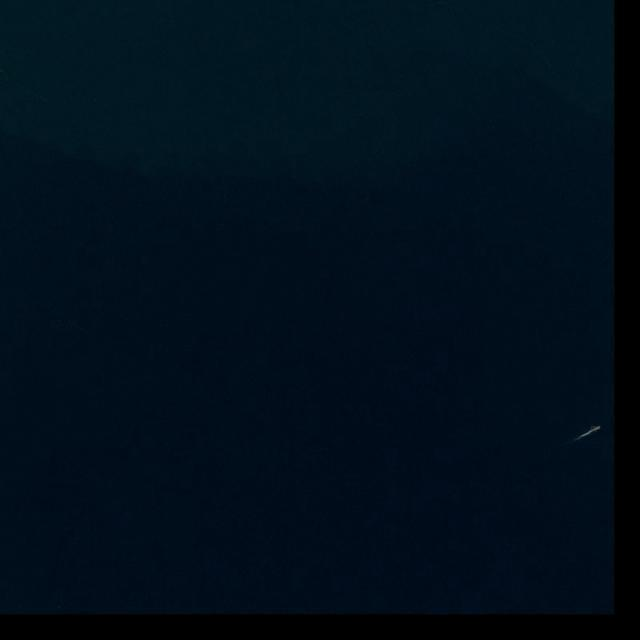ship: (588, 426, 602, 435)
